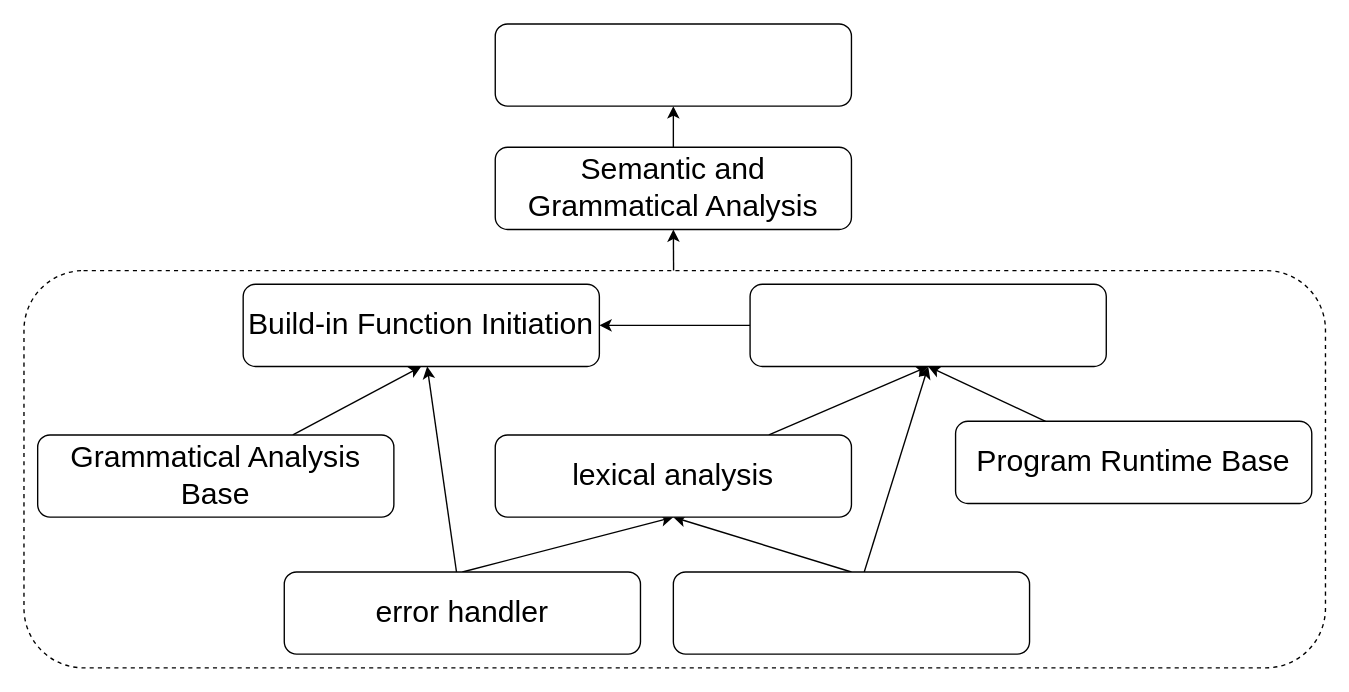
Some shapes in this 1349 by 692 pixel diagram are drawn without their labels. Each missing label, with the box of its shape:
Main Function: (494, 23, 851, 106)
Program Runtime Management: (749, 283, 1106, 366)
symbol table: (672, 571, 1030, 654)
